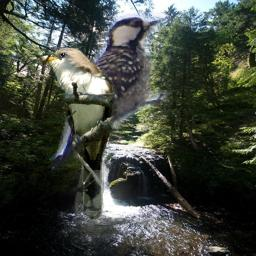Cuckoo: (35, 47, 118, 219)
Woodpecker: (43, 7, 176, 179)
